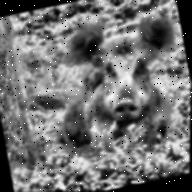boar: (37, 13, 184, 165)
